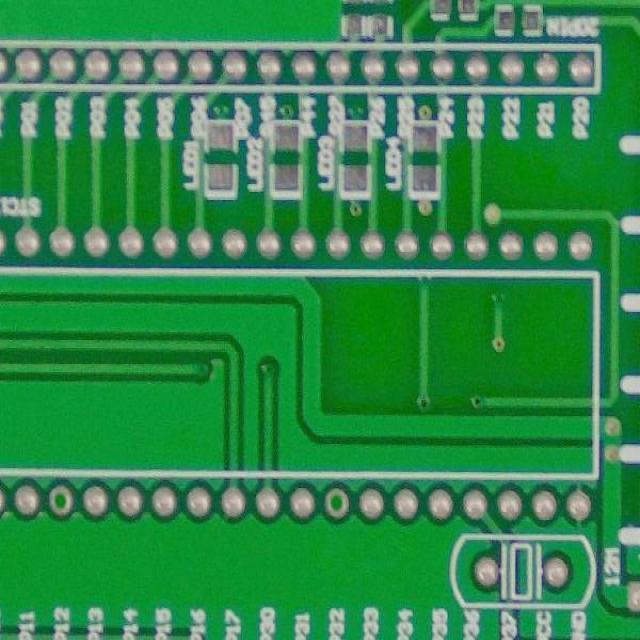missing hole: (47, 478, 81, 522), (322, 484, 352, 521)
